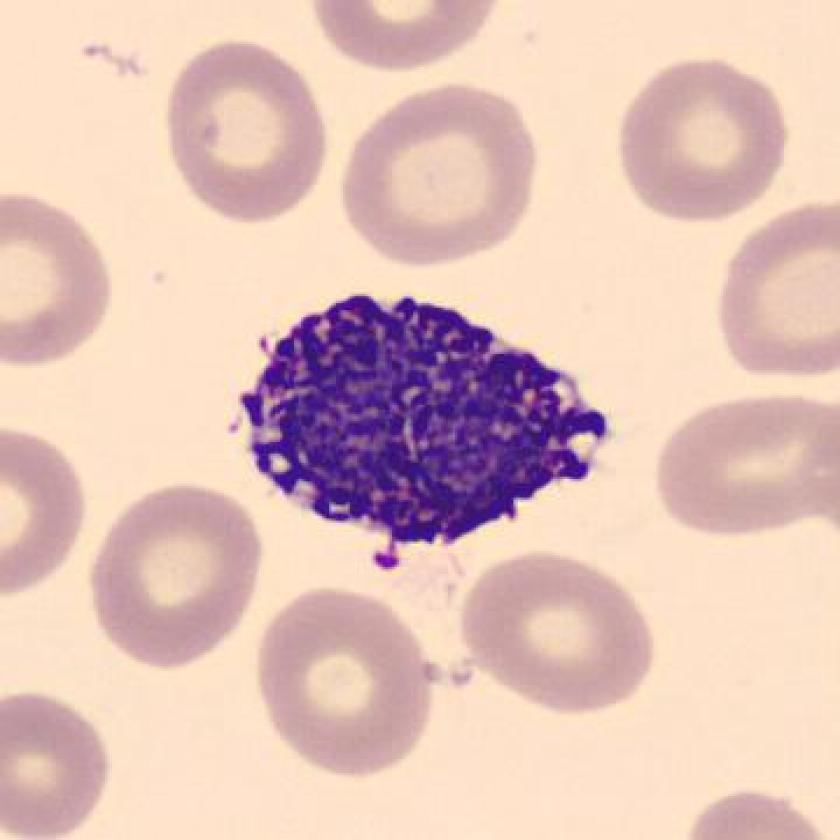basophil: (234, 279, 624, 552)
